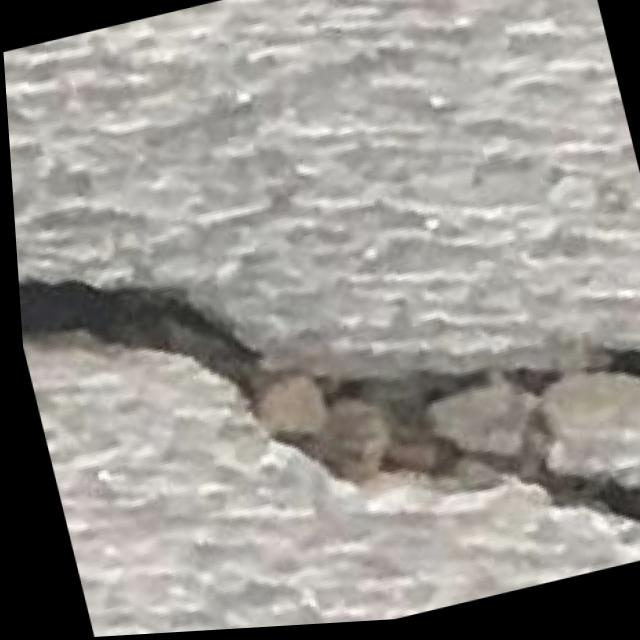Crack: (9, 140, 640, 640)
